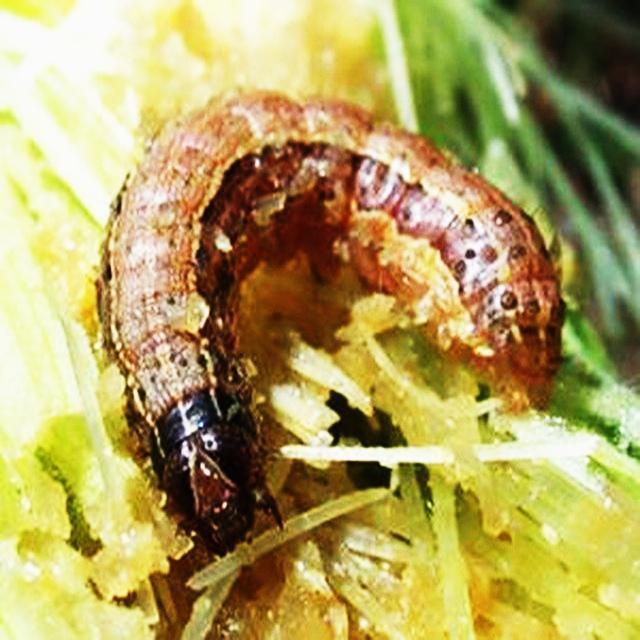gusano_cogollero: (92, 83, 568, 559)
